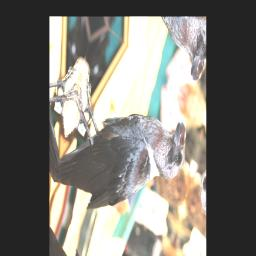Crow: (54, 35, 194, 256)
